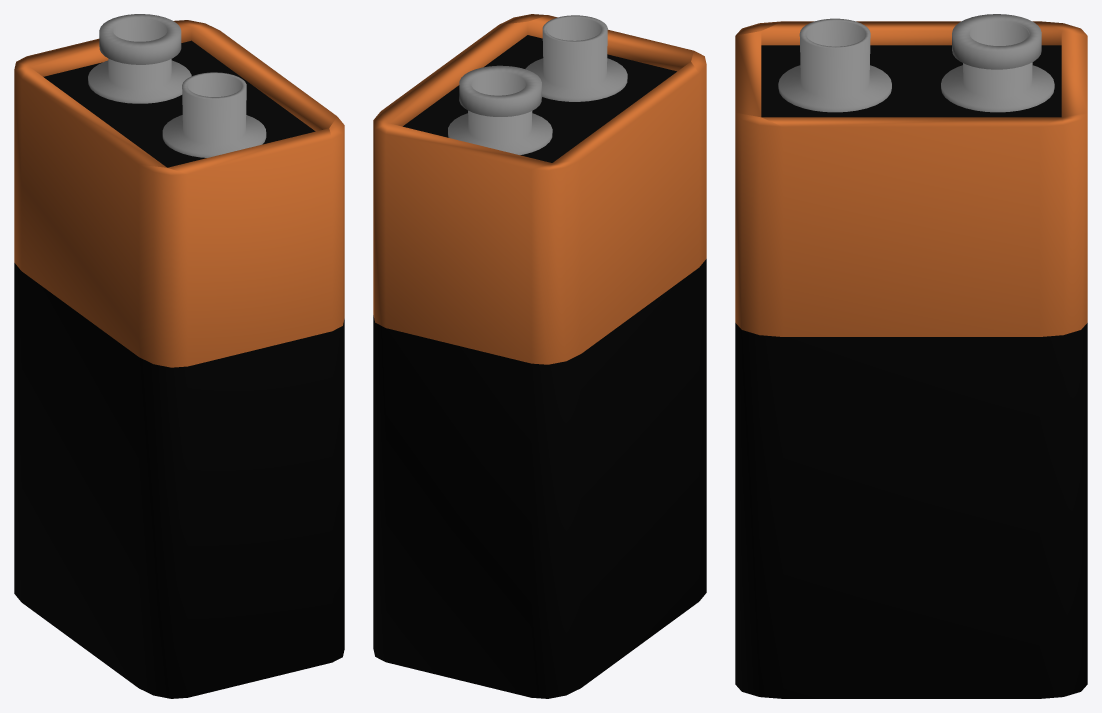
The model's file is Batteri9V.dae.
3 renders of one model, left to right at view 1: azimuth 30°, elevation 25°; view 2: azimuth 150°, elevation 25°; view 3: azimuth 270°, elevation 25°, orthographic. The views are drawn at different scales.
Parts seen in each view (by area): view 1: Battery, BatteryNegative, BatteryPositive; view 2: Battery, BatteryNegative, BatteryPositive; view 3: Battery, BatteryNegative, BatteryPositive.
Part boxes in pixels (bbox=[...]): Battery: bbox=[14, 20, 344, 698]; BatteryNegative: bbox=[88, 14, 191, 103]; BatteryPositive: bbox=[162, 72, 266, 157]; Battery: bbox=[373, 14, 706, 698]; BatteryNegative: bbox=[448, 65, 552, 154]; BatteryPositive: bbox=[525, 15, 627, 101]; Battery: bbox=[735, 21, 1087, 698]; BatteryNegative: bbox=[941, 14, 1054, 112]; BatteryPositive: bbox=[778, 18, 891, 112].
Size of the model in its own units: 0.7938 by 1.12 by 2.14.
